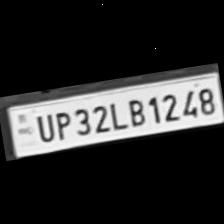1: (143, 93, 163, 126)
2: (154, 90, 180, 124), (88, 102, 110, 134)
3: (70, 104, 92, 138)
4: (176, 86, 200, 120)
8: (194, 84, 218, 118)
B: (122, 96, 148, 130)
L: (104, 99, 126, 132)
P: (50, 108, 73, 140)
U: (32, 110, 56, 144)
